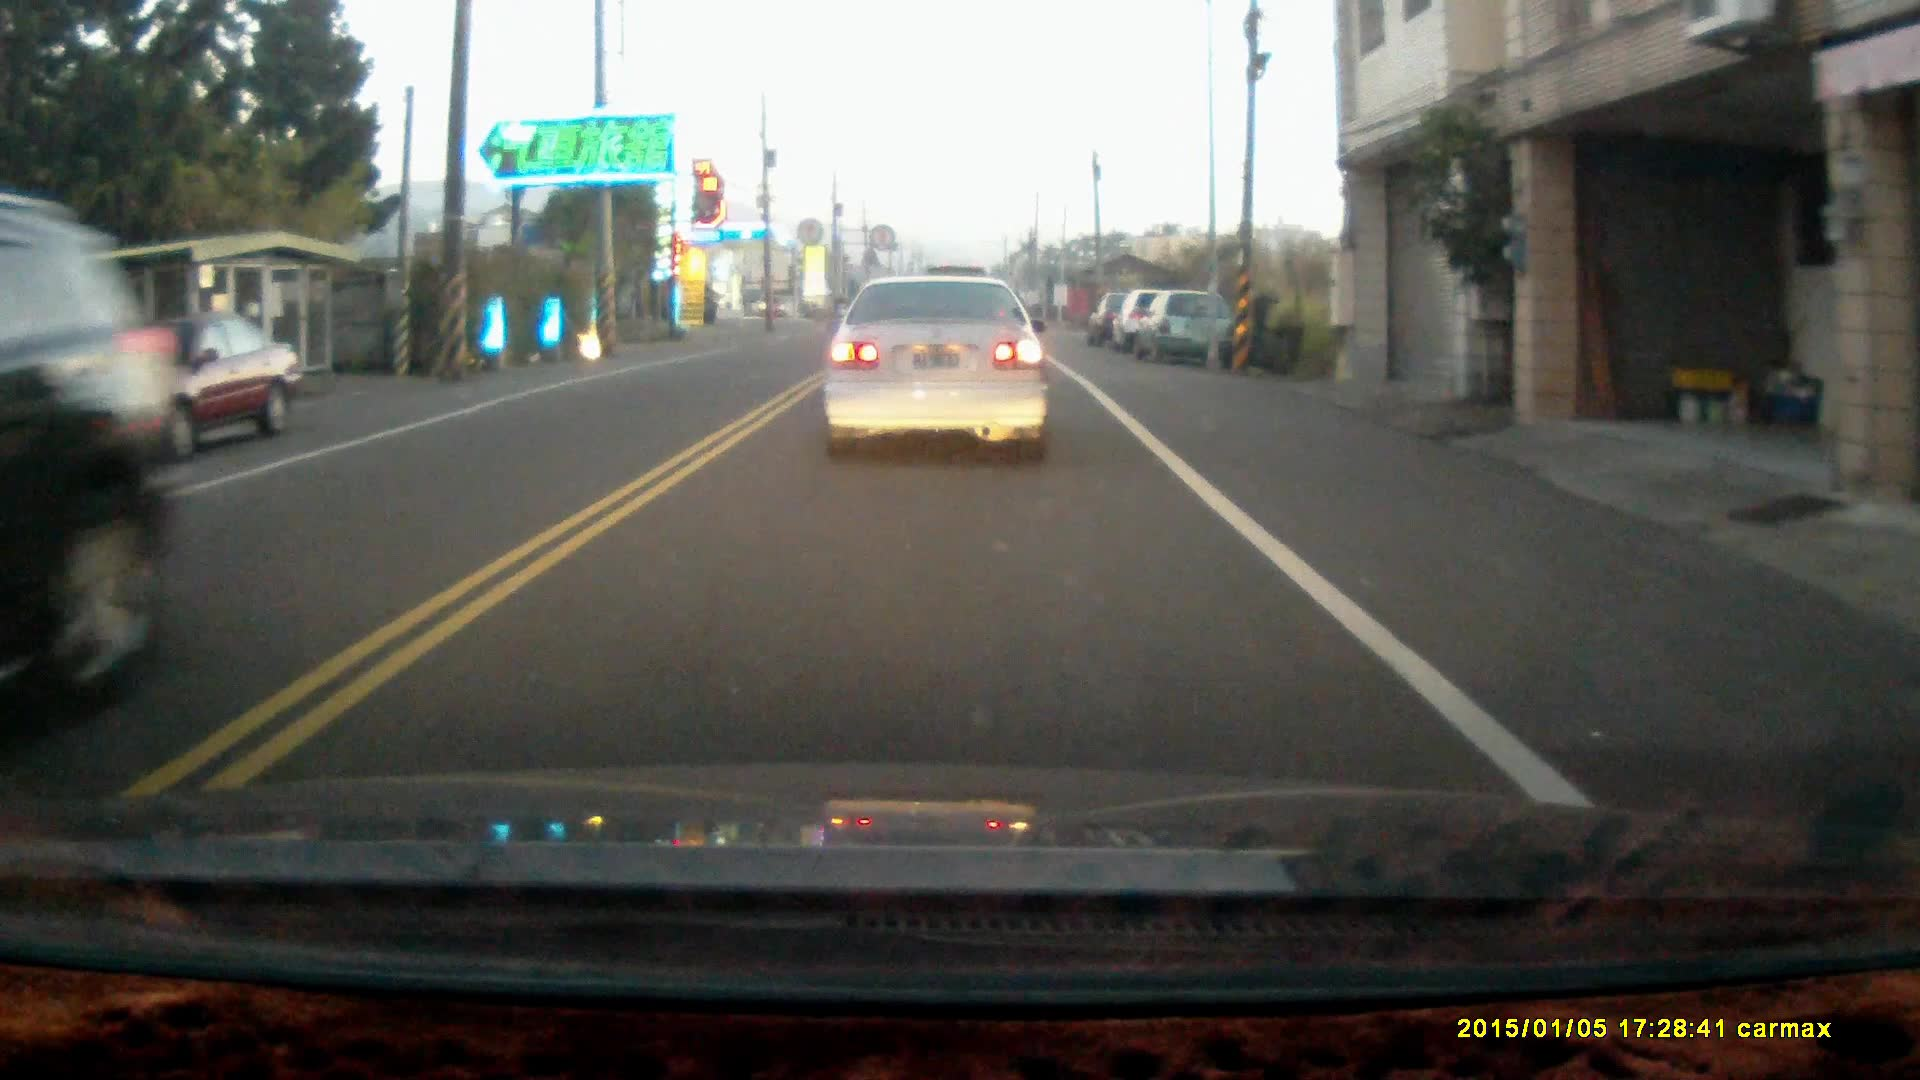vehicle: (819, 273, 1048, 463), (1131, 291, 1233, 365), (1116, 293, 1200, 356)
